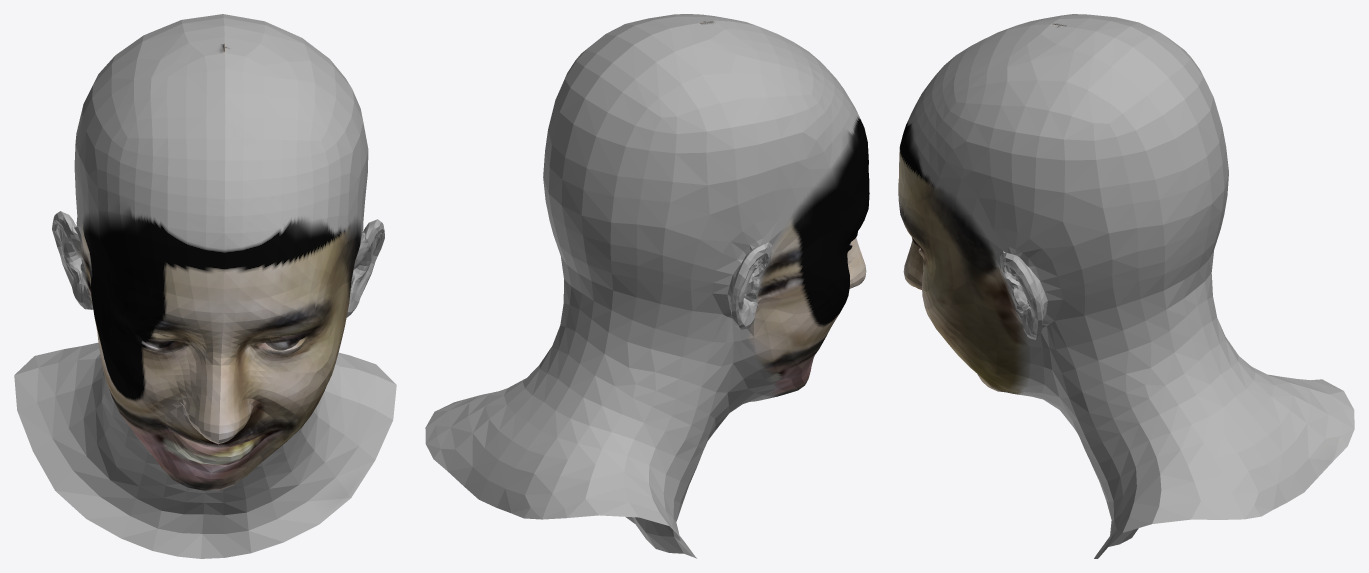
File: ezgif-frame-083.obj
3 renders of one model, left to right at view 1: azimuth 30°, elevation 25°; view 2: azimuth 150°, elevation 25°; view 3: azimuth 270°, elevation 25°, orthographic. The views are drawn at different scales.
Size of the model in its own units: 0.2211 by 0.3233 by 0.2631.
Materials: 1 (1 with a texture image).
